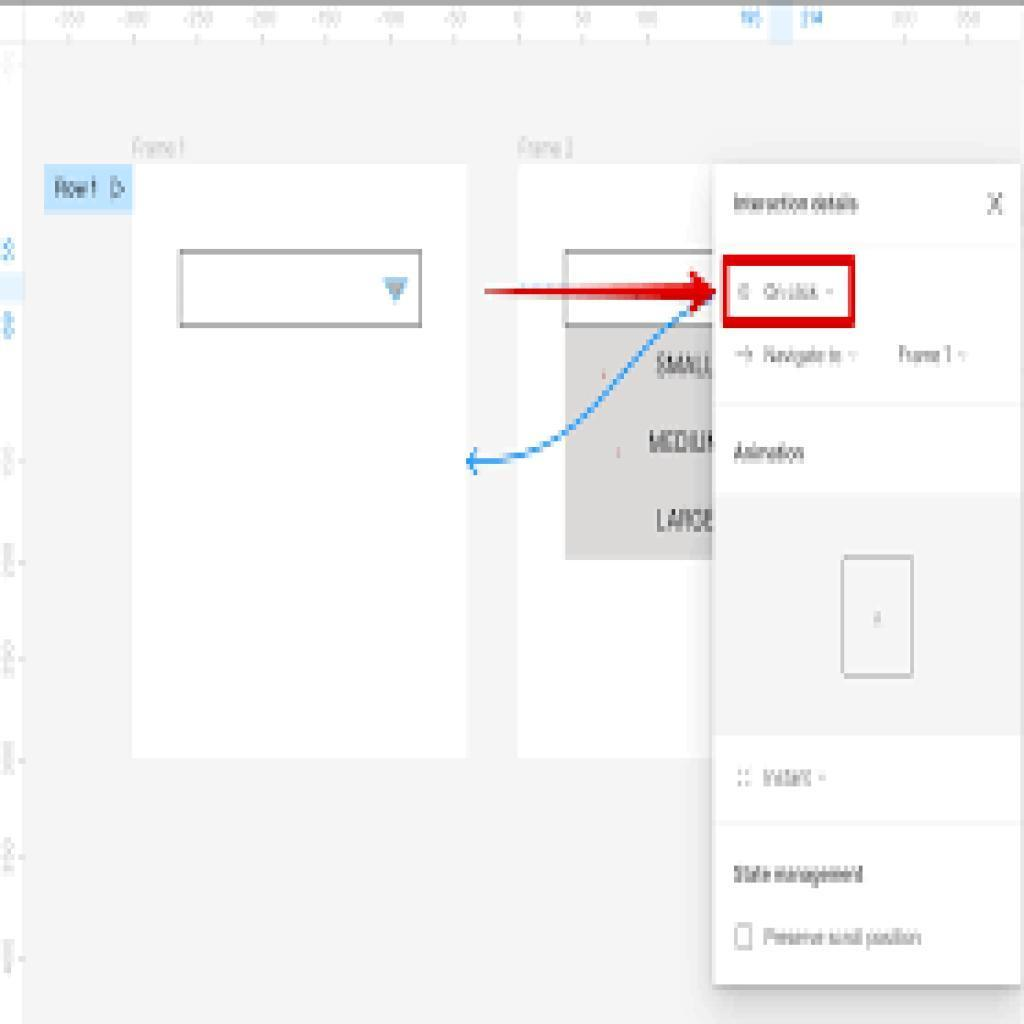checkbox: (735, 924, 756, 955)
dropdown: (181, 248, 424, 329), (723, 255, 858, 330)
icon: (984, 188, 1010, 222)
label: (761, 927, 927, 950)
